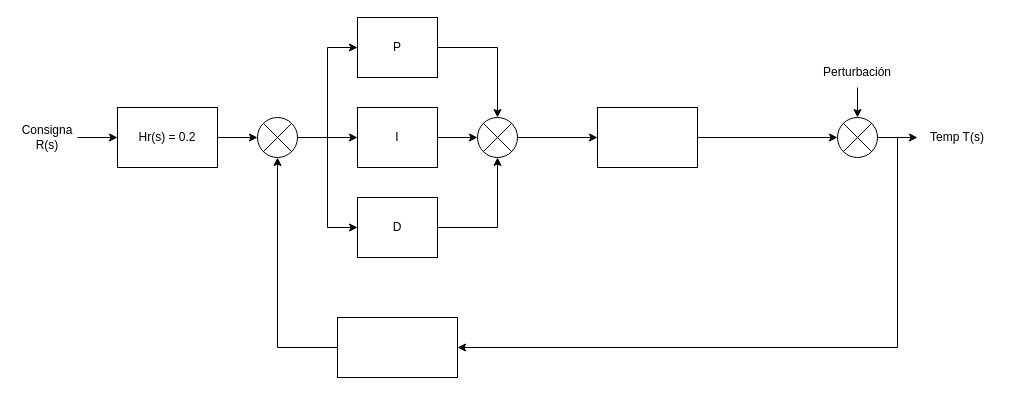
Image size: 1014x395. Some labels were removed from this diagram. The shapes that lost their labels are listed below. From the top down, each one's centre as x and y in pixels, then its label:
At point (647, 137): "Planta Gp(s)".
At point (397, 347): "Sensor H(s)".
